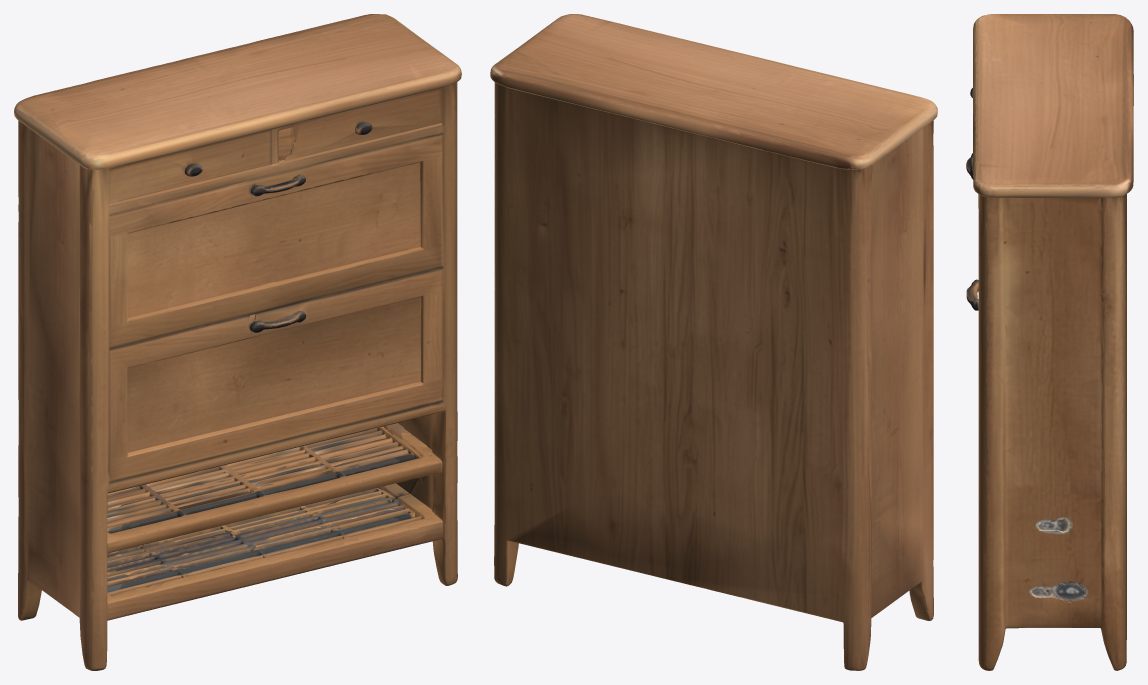
Rendered from shoe-cabinet.glb.
3 renders of one model, left to right at view 1: azimuth 30°, elevation 25°; view 2: azimuth 150°, elevation 25°; view 3: azimuth 270°, elevation 25°, orthographic. The views are drawn at different scales.
Parts seen in each view (by area): view 1: geometry_0; view 2: geometry_0; view 3: geometry_0.
Boxes of the visible parts, x1,y1,x2,y2 form: geometry_0: (14, 14, 461, 670); geometry_0: (490, 14, 937, 670); geometry_0: (966, 14, 1133, 670).
Size of the model in its own units: 0.9236 by 1.2 by 0.3737.
Materials: 1 (1 with a texture image).
